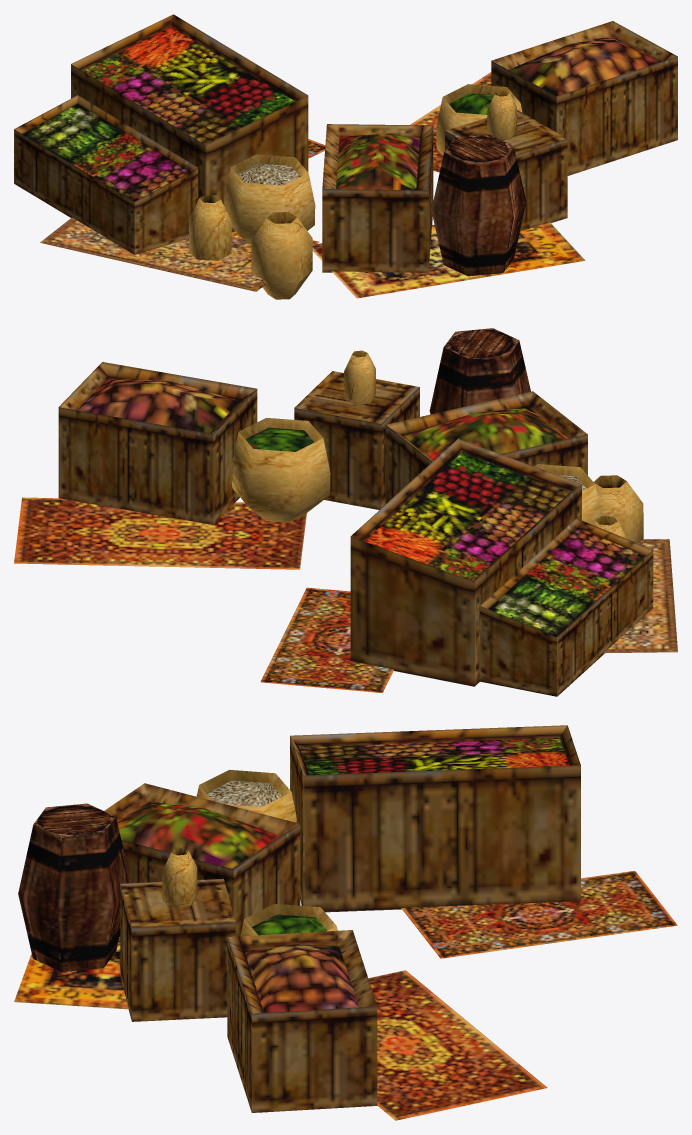
Rendered from treasure_pers_4.dae.
3 views of the same model, one above another, from view 1: azimuth 30°, elevation 25°; view 2: azimuth 150°, elevation 25°; view 3: azimuth 270°, elevation 25° (orthographic). The views are drawn at different scales.
Parts seen in each view (by area): view 1: treasure3; view 2: treasure3; view 3: treasure3.
Part boxes in pixels (left/top/right/bottom): treasure3: left=14, top=14, right=677, bottom=299; treasure3: left=14, top=328, right=677, bottom=696; treasure3: left=14, top=725, right=677, bottom=1120.
Bounding box in the file's own units: 11.79 × 9.56 × 2.69.
